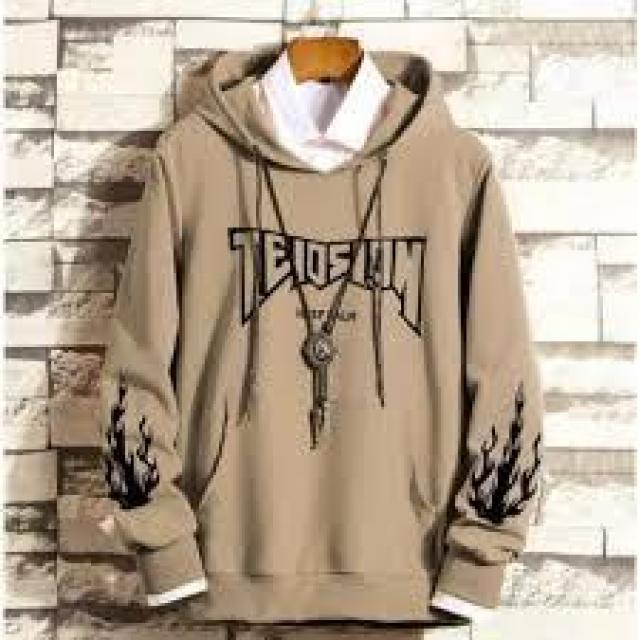sweater: (95, 46, 559, 632)
